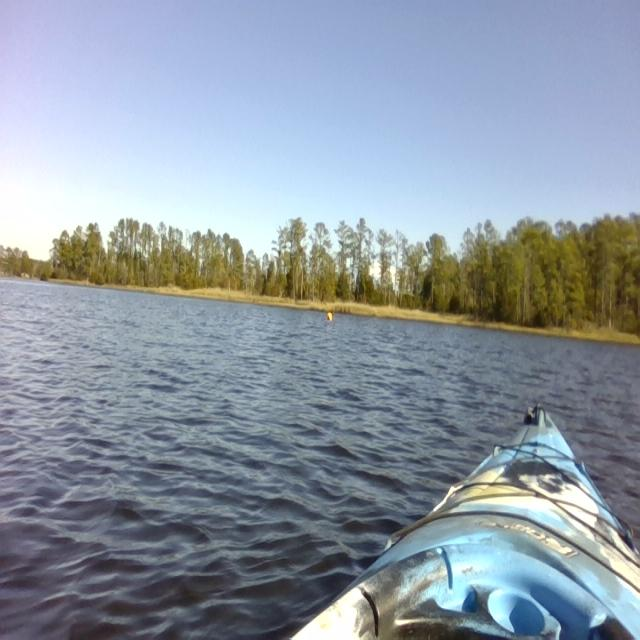Buoy: (325, 310, 335, 324)
